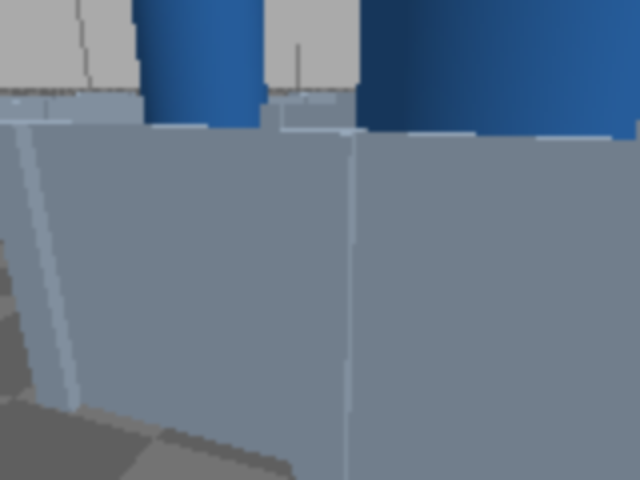person: (356, 0, 638, 402)
